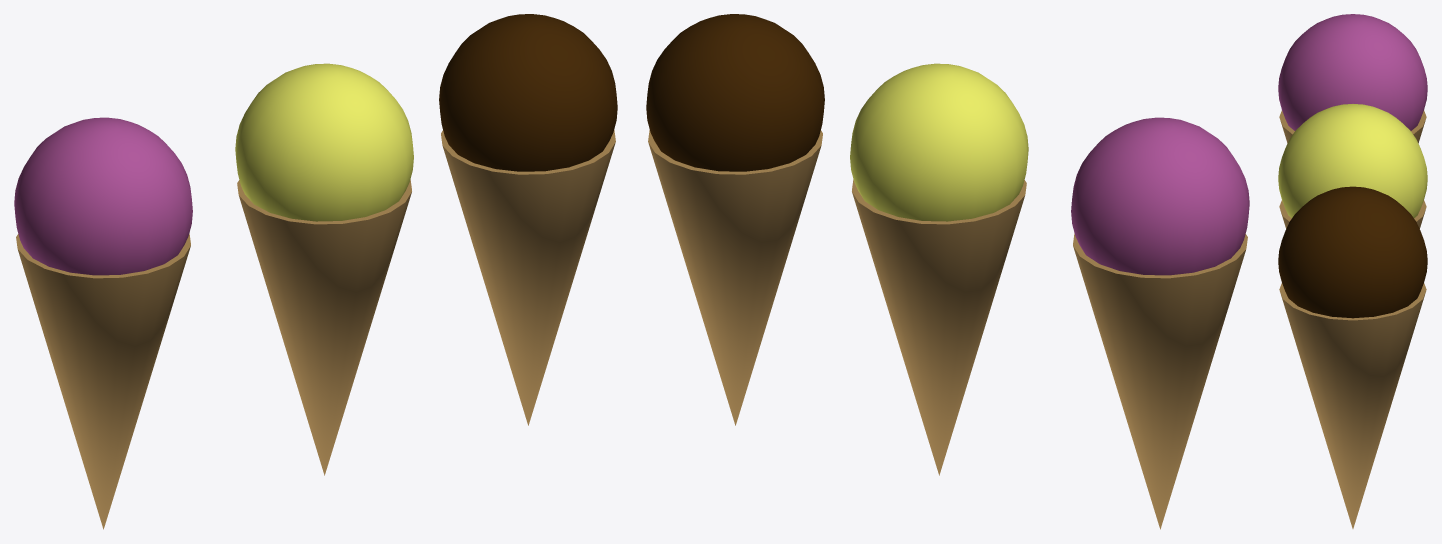
The model's file is cones.fbx.
3 views of the same model, side by side, from view 1: azimuth 30°, elevation 25°; view 2: azimuth 150°, elevation 25°; view 3: azimuth 270°, elevation 25° (orthographic). The views are drawn at different scales.
Visible parts, largest first — view 1: pCone2, polySurface4, polySurface2; view 2: pCone2, polySurface4, polySurface2; view 3: polySurface4, pCone2, polySurface2.
Part boxes in pixels (bbox=[...]): pCone2: bbox=[14, 117, 192, 529]; polySurface4: bbox=[439, 14, 617, 425]; polySurface2: bbox=[235, 63, 413, 475]; pCone2: bbox=[1071, 117, 1249, 529]; polySurface4: bbox=[646, 14, 824, 425]; polySurface2: bbox=[850, 63, 1028, 475]; polySurface4: bbox=[1278, 186, 1427, 528]; pCone2: bbox=[1278, 14, 1427, 143]; polySurface2: bbox=[1278, 104, 1427, 228].
Bounding box in the file's own units: 4.8 × 3.19 × 1.29.
